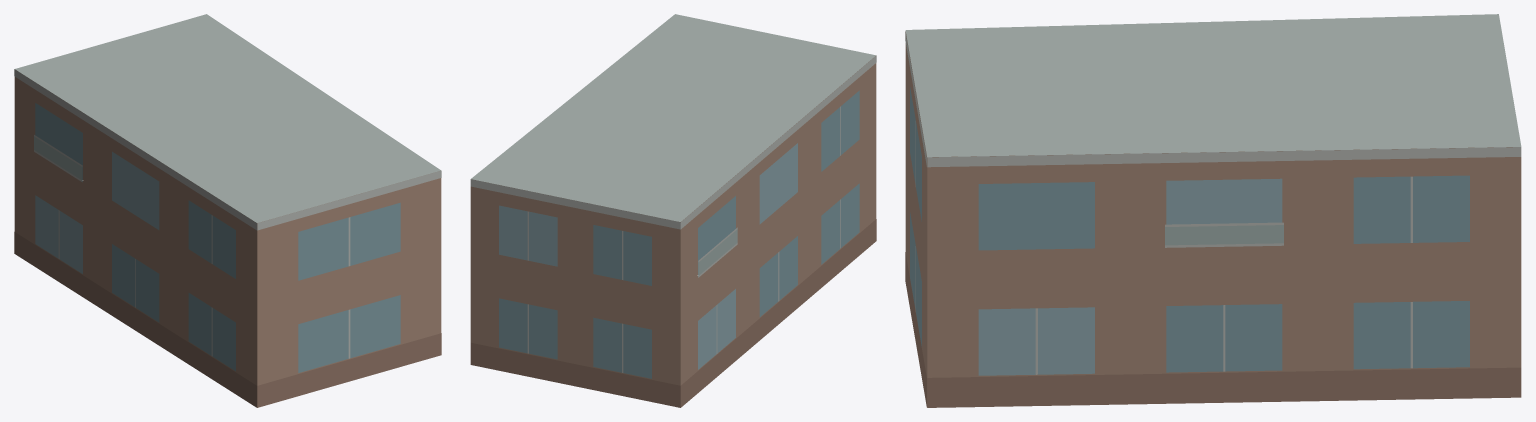
The model's file is survey-upis-32816409.glb.
3 renders of one model, left to right at view 1: azimuth 30°, elevation 25°; view 2: azimuth 150°, elevation 25°; view 3: azimuth 270°, elevation 25°, orthographic. The views are drawn at different scales.
Parts seen in each view (by area): view 1: survey-upis-32816409.tmp; view 2: survey-upis-32816409.tmp; view 3: survey-upis-32816409.tmp.
Part boxes in pixels (left/top/right/bottom): survey-upis-32816409.tmp: left=14, top=14, right=441, bottom=407; survey-upis-32816409.tmp: left=470, top=14, right=876, bottom=407; survey-upis-32816409.tmp: left=905, top=14, right=1521, bottom=407.
Bounding box in the file's own units: 7.48 × 6.1 × 13.6.
